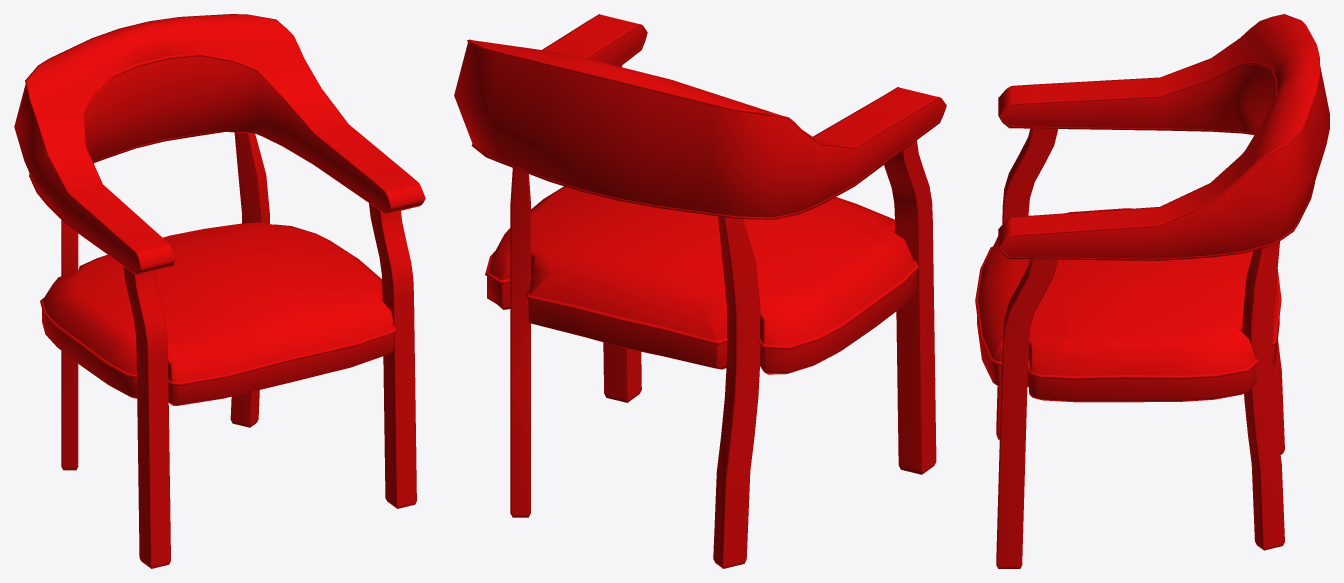
File: chair.fbx
The picture shows the model from 3 angles, left to right: view 1: azimuth 30°, elevation 25°; view 2: azimuth 150°, elevation 25°; view 3: azimuth 270°, elevation 25°; orthographic projection. The views are drawn at different scales.
Visible parts, largest first — view 1: chair; view 2: chair; view 3: chair.
Boxes of the visible parts, x1,y1,x2,y2 form: chair: [14, 14, 425, 568]; chair: [454, 14, 946, 568]; chair: [975, 14, 1329, 568].
Bounding box in the file's own units: 59.74 × 79.34 × 58.36.
